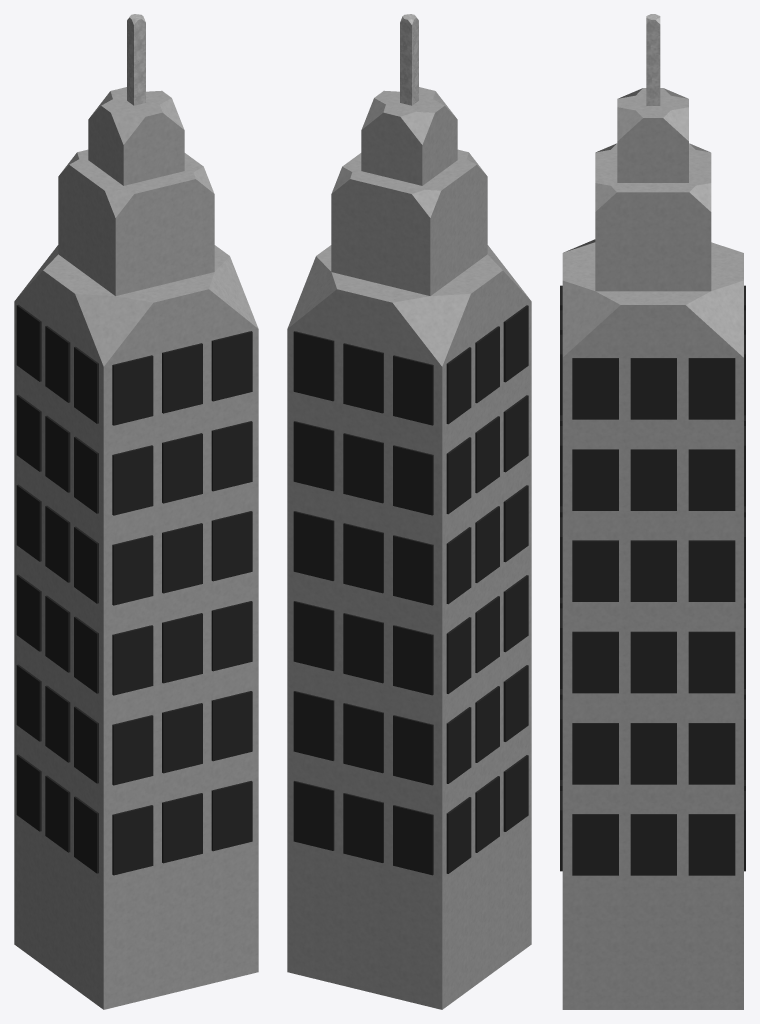
File: Building1Clean.fbx
The picture shows the model from 3 angles, left to right: view 1: azimuth 30°, elevation 25°; view 2: azimuth 150°, elevation 25°; view 3: azimuth 270°, elevation 25°; orthographic projection.
Parts seen in each view (by area): view 1: Cube.012, Cube.010, Cube.011; view 2: Cube.012, Cube.010, Cube.011; view 3: Cube.012, Cube.011, Cube.010.
Boxes of the visible parts, bbox=[...] form: Cube.012: bbox=[14, 14, 258, 1009]; Cube.010: bbox=[112, 331, 252, 875]; Cube.011: bbox=[16, 304, 98, 873]; Cube.012: bbox=[287, 14, 531, 1009]; Cube.010: bbox=[293, 331, 433, 875]; Cube.011: bbox=[446, 305, 528, 873]; Cube.012: bbox=[562, 14, 743, 1009]; Cube.011: bbox=[572, 358, 735, 875]; Cube.010: bbox=[560, 285, 745, 871].
Bounding box in the file's own units: 1023 × 5807 × 1025.
2 materials, 2 textured.
